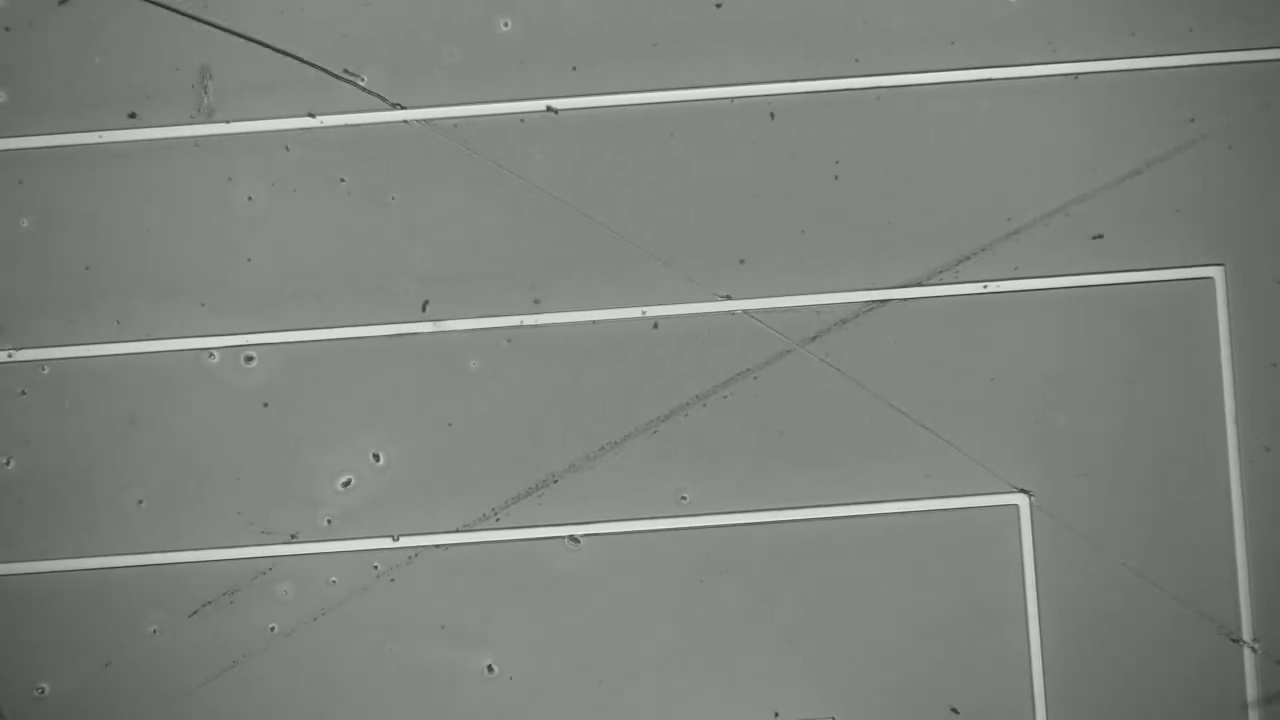edge_bite: (384, 530, 407, 558)
scratch: (331, 146, 1204, 610), (424, 127, 1023, 489), (1035, 507, 1257, 649), (147, 0, 394, 112)
stains_enbedded: (536, 88, 567, 121)
